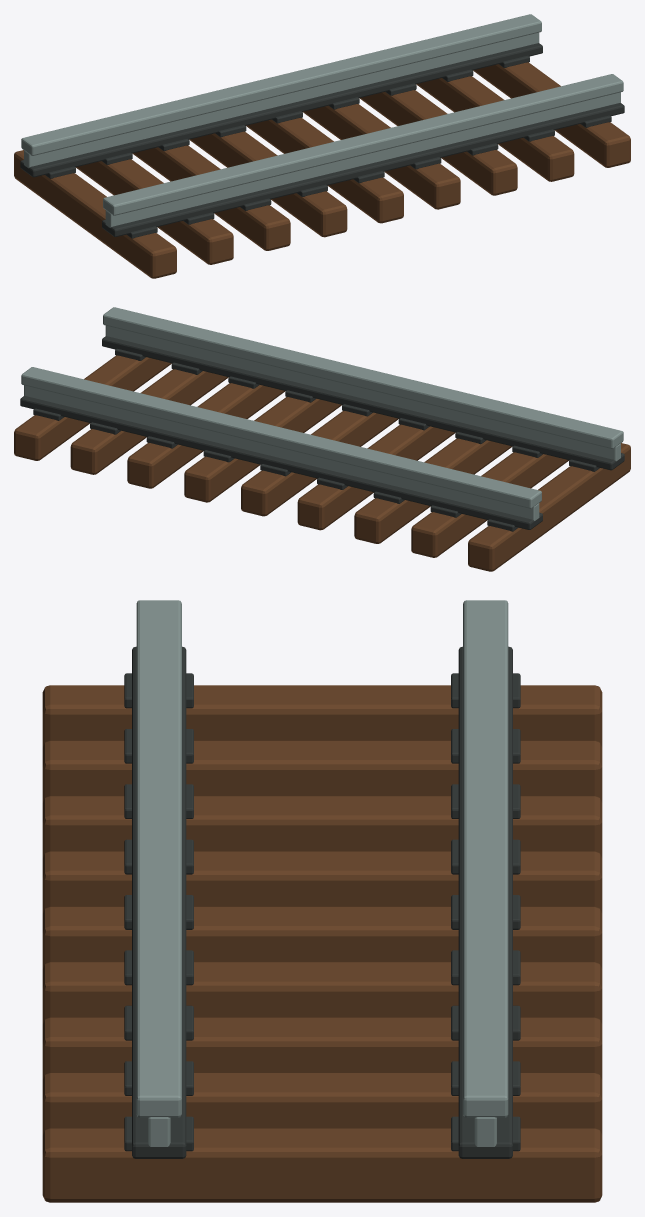
Rendered from 05_railway_track.glb.
The picture shows the model from 3 angles, top to bottom: view 1: azimuth 30°, elevation 25°; view 2: azimuth 150°, elevation 25°; view 3: azimuth 270°, elevation 25°; orthographic projection. The views are drawn at different scales.
Parts seen in each view (by area): view 1: Rail head, Rail head.001, Rail foot.001, Rail foot, Rail web, Rail web.001, Railway sleeper, Railway sleeper.003, Railway sleeper.006, Railway sleeper.007, Railway sleeper.002, Railway sleeper.005 (+3 smaller); view 2: Rail head, Rail head.001, Rail foot, Rail foot.001, Rail web.001, Rail web, Railway sleeper, Railway sleeper.003, Railway sleeper.006, Railway sleeper.007, Railway sleeper.002, Railway sleeper.005 (+3 smaller); view 3: Railway sleeper.008, Railway sleeper.001, Railway sleeper.006, Railway sleeper.003, Railway sleeper, Railway sleeper.004, Railway sleeper.002, Railway sleeper.005, Railway sleeper.007, Rail head, Rail head.001, Rail foot (+1 smaller).
Part boxes in pixels (x1,y1,x2,y2): Rail head: [103, 74, 623, 215]; Rail head.001: [21, 14, 541, 155]; Rail foot.001: [20, 43, 542, 177]; Rail foot: [102, 103, 624, 236]; Rail web: [105, 92, 620, 227]; Rail web.001: [24, 32, 539, 168]; Railway sleeper: [14, 150, 176, 278]; Railway sleeper.003: [189, 131, 347, 237]; Railway sleeper.006: [359, 90, 517, 195]; Railway sleeper.007: [416, 76, 574, 181]; Railway sleeper.002: [132, 145, 290, 250]; Railway sleeper.005: [303, 104, 460, 209]; Rail head: [103, 307, 623, 448]; Rail head.001: [21, 367, 541, 508]; Rail foot: [102, 336, 624, 470]; Rail foot.001: [20, 396, 542, 529]; Rail web.001: [24, 385, 539, 520]; Rail web: [105, 325, 620, 461]; Railway sleeper: [468, 443, 630, 571]; Railway sleeper.003: [297, 424, 455, 530]; Railway sleeper.006: [127, 383, 285, 488]; Railway sleeper.007: [70, 369, 228, 474]; Railway sleeper.002: [354, 438, 512, 543]; Railway sleeper.005: [184, 397, 341, 502]; Railway sleeper.008: [42, 1128, 602, 1202]; Railway sleeper.001: [42, 740, 602, 802]; Railway sleeper.006: [42, 1017, 602, 1079]; Railway sleeper.003: [42, 851, 602, 913]; Railway sleeper: [42, 685, 602, 747]; Railway sleeper.004: [42, 906, 602, 968]; Railway sleeper.002: [42, 796, 602, 857]; Railway sleeper.005: [42, 962, 602, 1023]; Railway sleeper.007: [42, 1073, 602, 1134]; Rail head: [136, 600, 181, 1117]; Rail head.001: [463, 600, 508, 1117]; Rail foot: [132, 646, 186, 1158].
Bounding box in the file's own units: 3.9 × 0.45 × 1.85.
